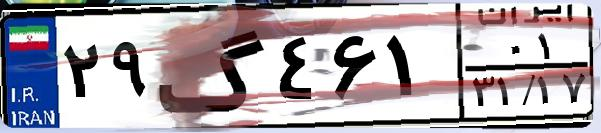0: (508, 27, 537, 80)
1: (385, 28, 445, 110), (537, 27, 568, 80), (495, 70, 520, 125), (535, 70, 560, 125)
2: (57, 26, 110, 100)
3: (470, 70, 495, 125)
4: (270, 28, 330, 110)
6: (330, 28, 385, 110)
7: (560, 70, 590, 125)
9: (110, 28, 156, 98)
گ: (156, 12, 270, 120)
